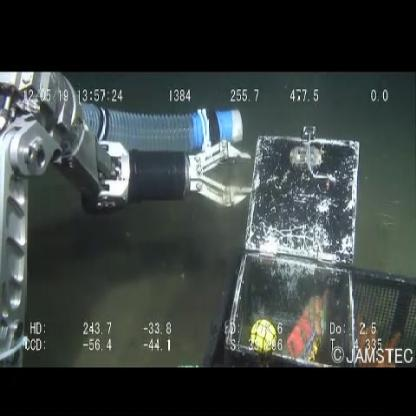Rov: (1, 72, 254, 359)
Rác: (284, 290, 334, 363)
